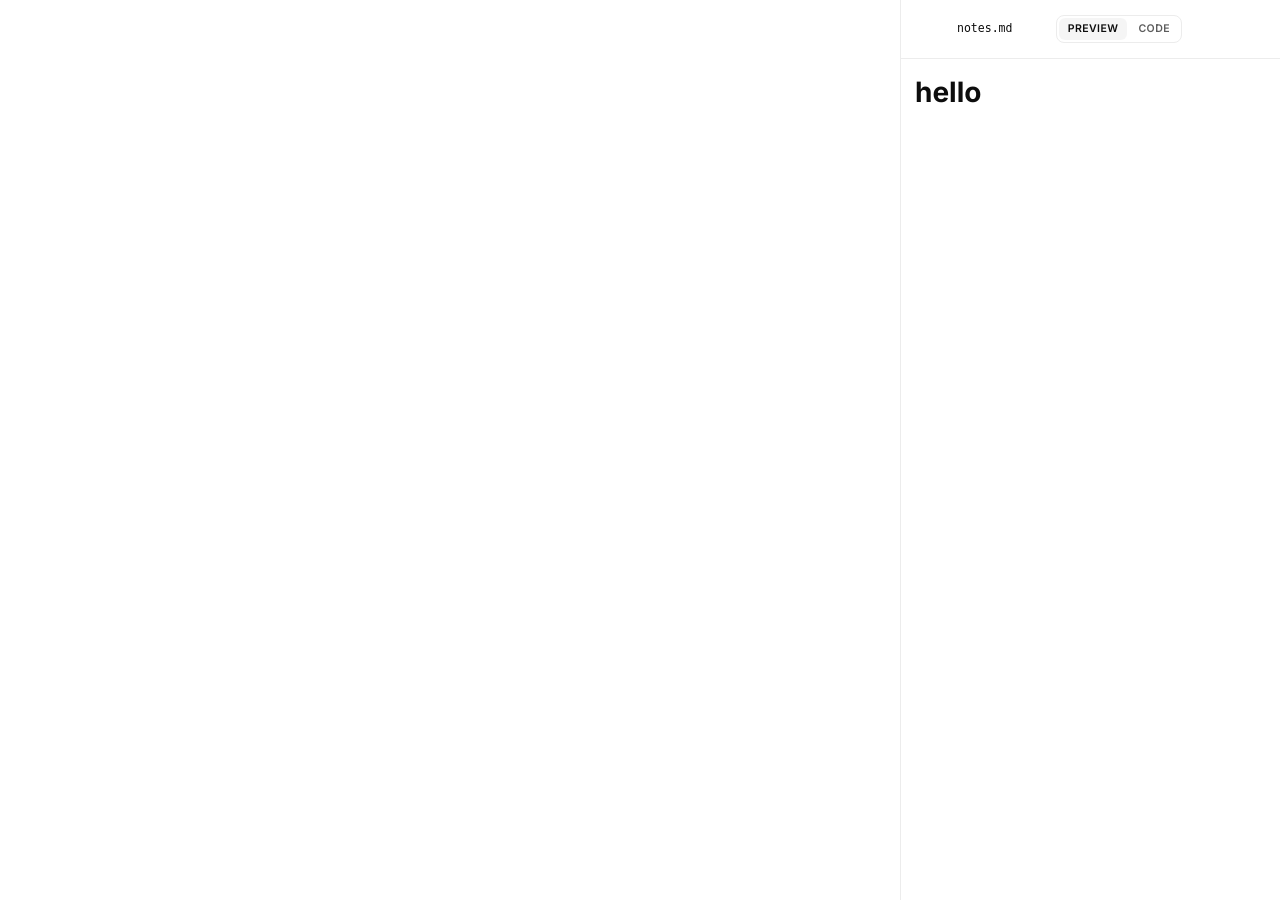
Test: Workspace dock — preview header › shows the toggle for markdown and switches to raw source
Expected: the element with class "fp-seg" is shown, [1056,15,1182,43]
Click the button "Code" at (1154, 29), box [1129,18,1179,40]
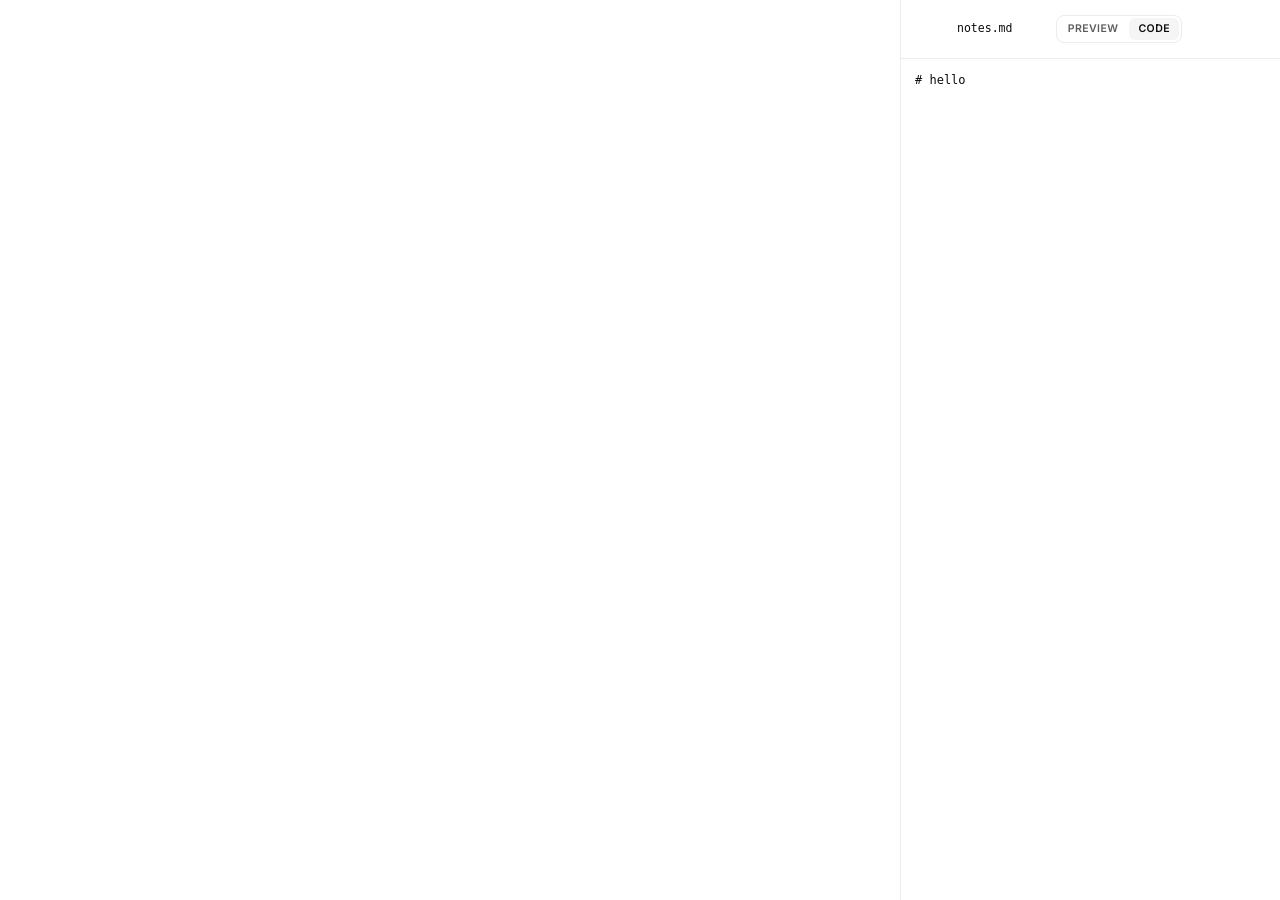
Now the text "# hello" is shown, box [915,73,966,87]
